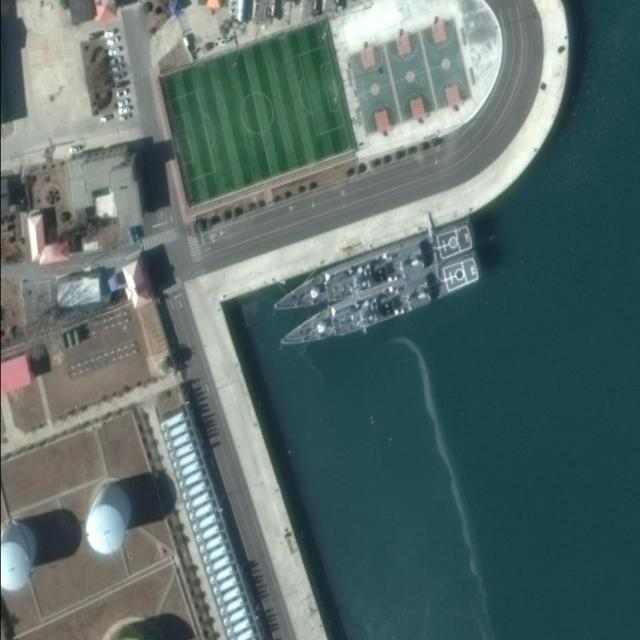Auxiliary Ships: (275, 253, 487, 354), (264, 221, 478, 319)
